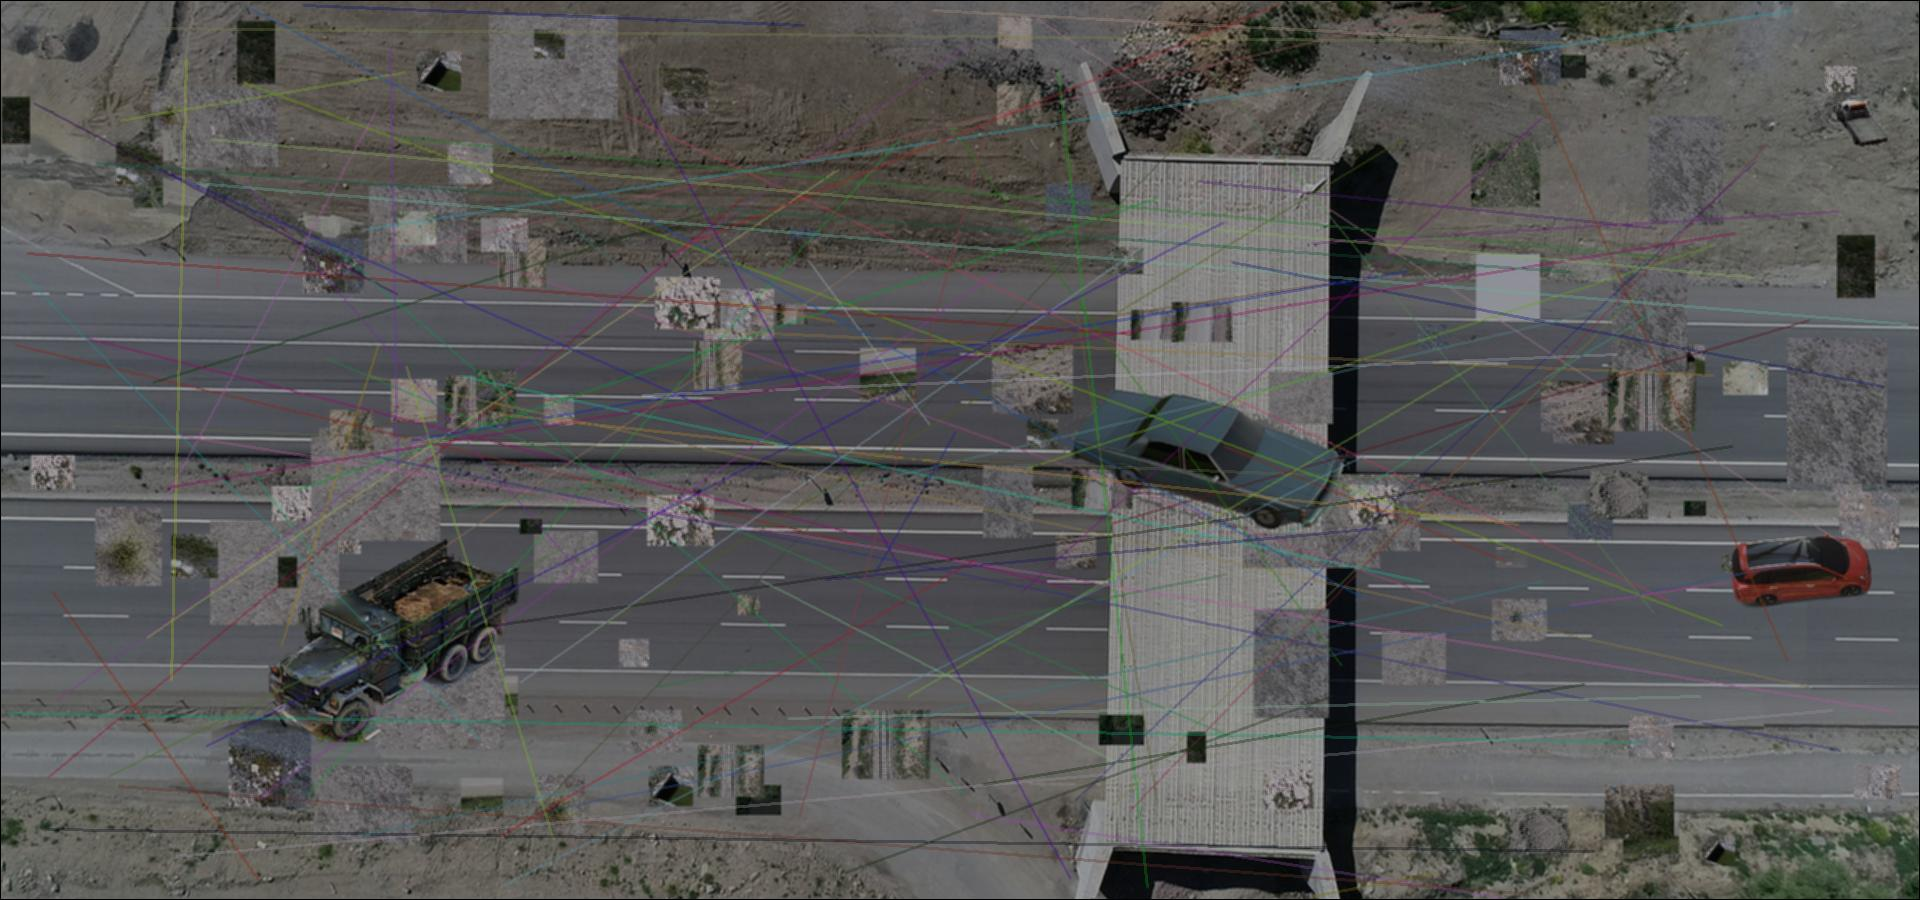arac: (269, 534, 520, 742), (1064, 382, 1349, 529), (1728, 530, 1872, 612), (1834, 98, 1891, 147)
